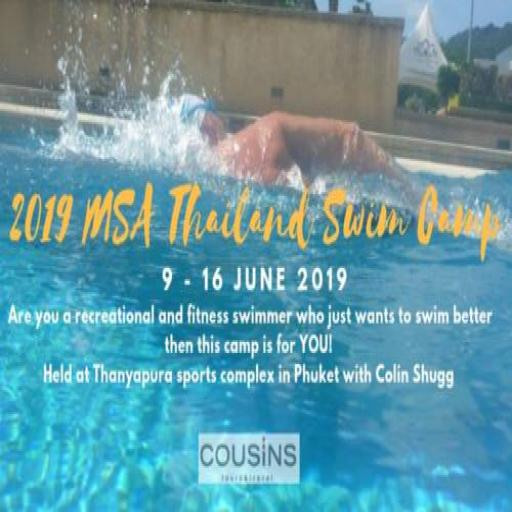swimming: (169, 89, 420, 205)
